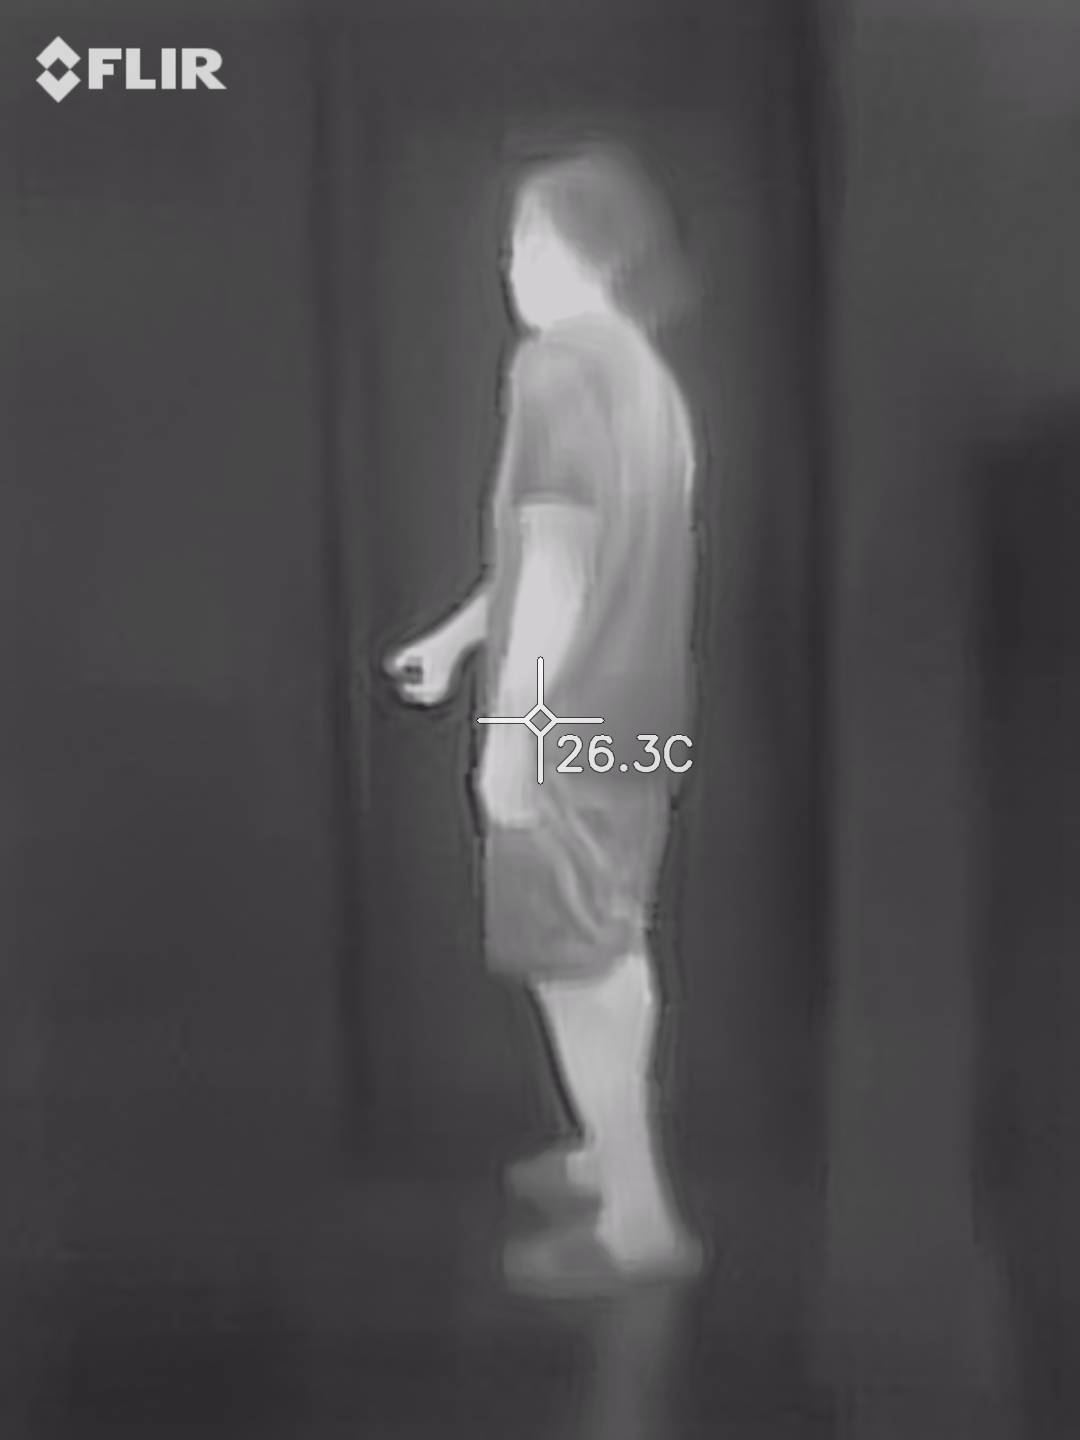head: (499, 157, 671, 330)
